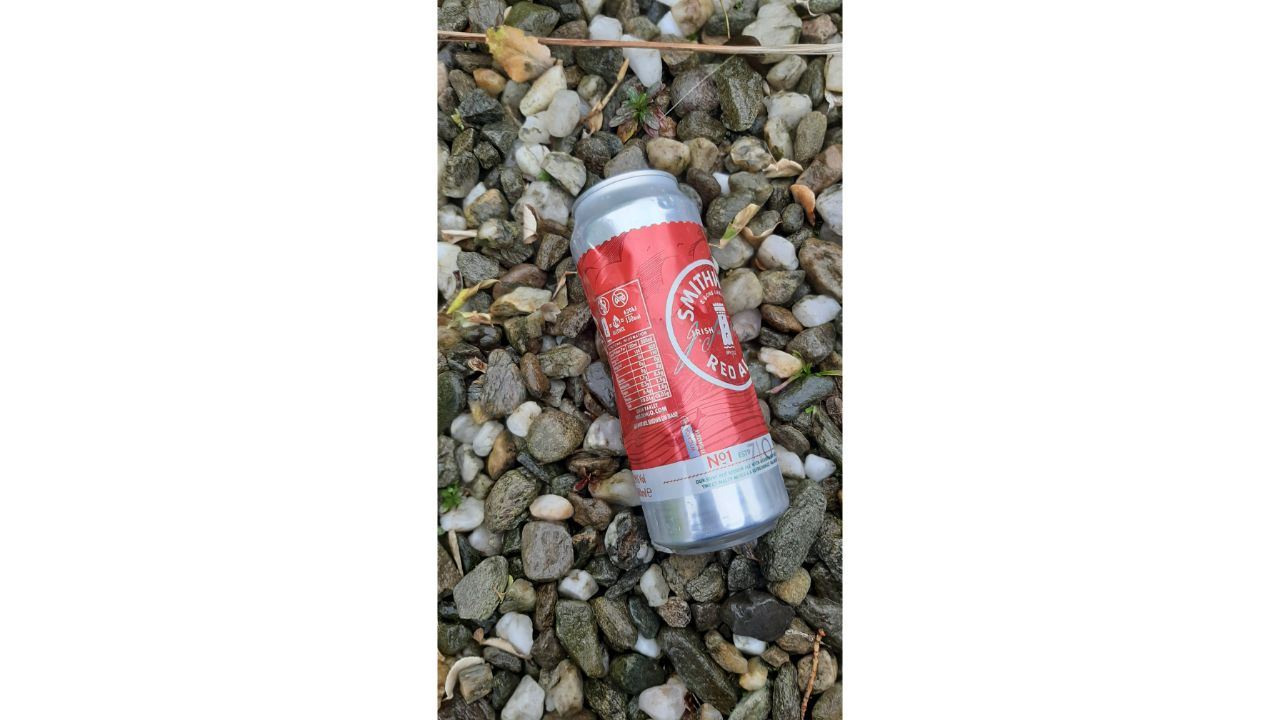Can: (566, 168, 795, 553)
